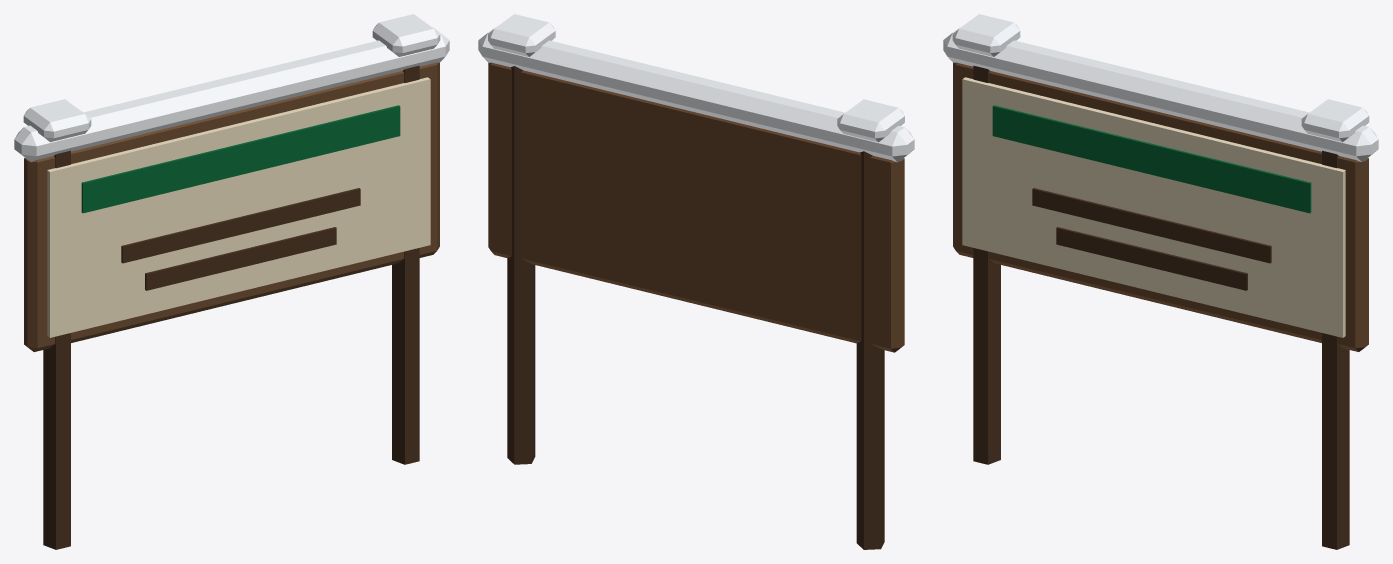
Rendered from area-sign.glb.
The picture shows the model from 3 angles, left to right: view 1: azimuth 30°, elevation 25°; view 2: azimuth 150°, elevation 25°; view 3: azimuth 330°, elevation 25°; orthographic projection.
Visible parts, largest first — view 1: area-sign; view 2: area-sign; view 3: area-sign.
Part boxes in pixels (x1,y1,x2,y2): area-sign: [14, 14, 449, 549]; area-sign: [478, 14, 914, 549]; area-sign: [943, 14, 1378, 549].
Size of the model in its own units: 2.7 by 2.61 by 0.2999.
